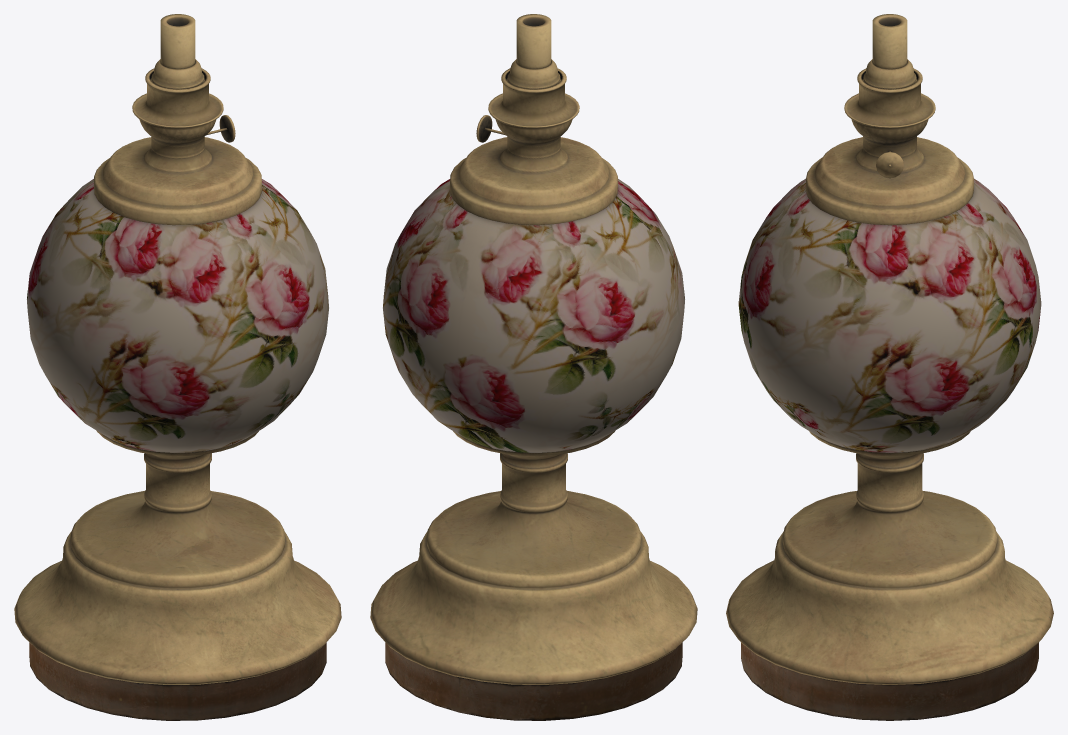
File: vintage_oil_lamp.obj
The picture shows the model from 3 angles, left to right: view 1: azimuth 30°, elevation 25°; view 2: azimuth 150°, elevation 25°; view 3: azimuth 270°, elevation 25°; orthographic projection.
Parts seen in each view (by area): view 1: vintage_oil_lamp; view 2: vintage_oil_lamp; view 3: vintage_oil_lamp.
Boxes of the visible parts, x1,y1,x2,y2 form: vintage_oil_lamp: [14, 14, 341, 720]; vintage_oil_lamp: [370, 14, 697, 720]; vintage_oil_lamp: [726, 14, 1053, 720].
Size of the model in its own units: 0.22 by 0.4711 by 0.22.
1 material, 1 textured.
